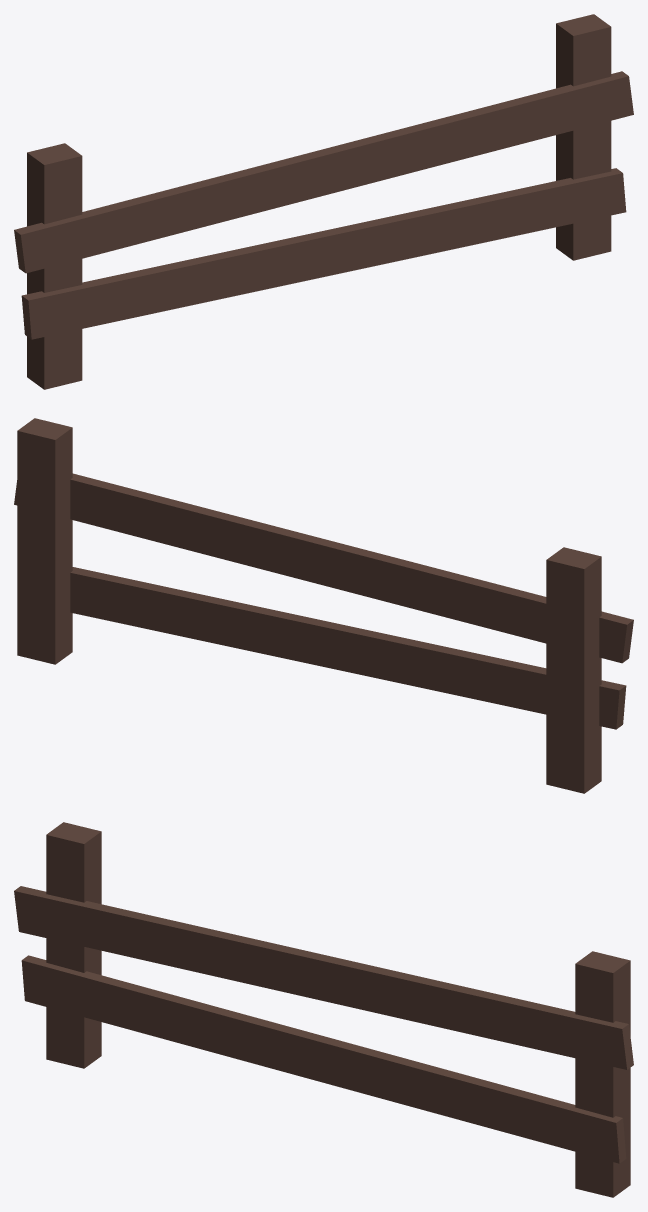
The model's file is Fence1.fbx.
The picture shows the model from 3 angles, top to bottom: view 1: azimuth 30°, elevation 25°; view 2: azimuth 150°, elevation 25°; view 3: azimuth 330°, elevation 25°; orthographic projection.
Visible parts, largest first — view 1: Cube.006; view 2: Cube.006; view 3: Cube.006.
Boxes of the visible parts, x1,y1,x2,y2 form: Cube.006: [14, 14, 633, 389]; Cube.006: [14, 418, 633, 793]; Cube.006: [14, 822, 633, 1197].
Bounding box in the file's own units: 339 × 119 × 20.76.
